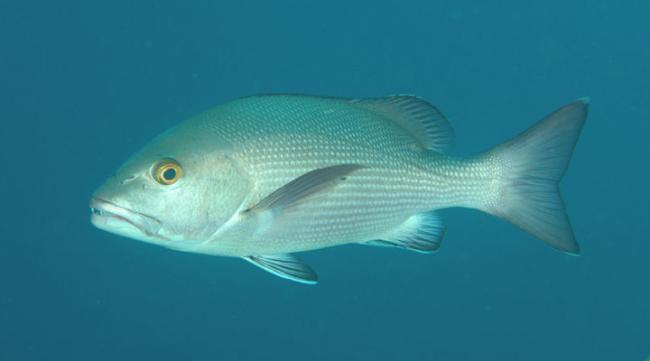fish: (88, 93, 592, 286)
